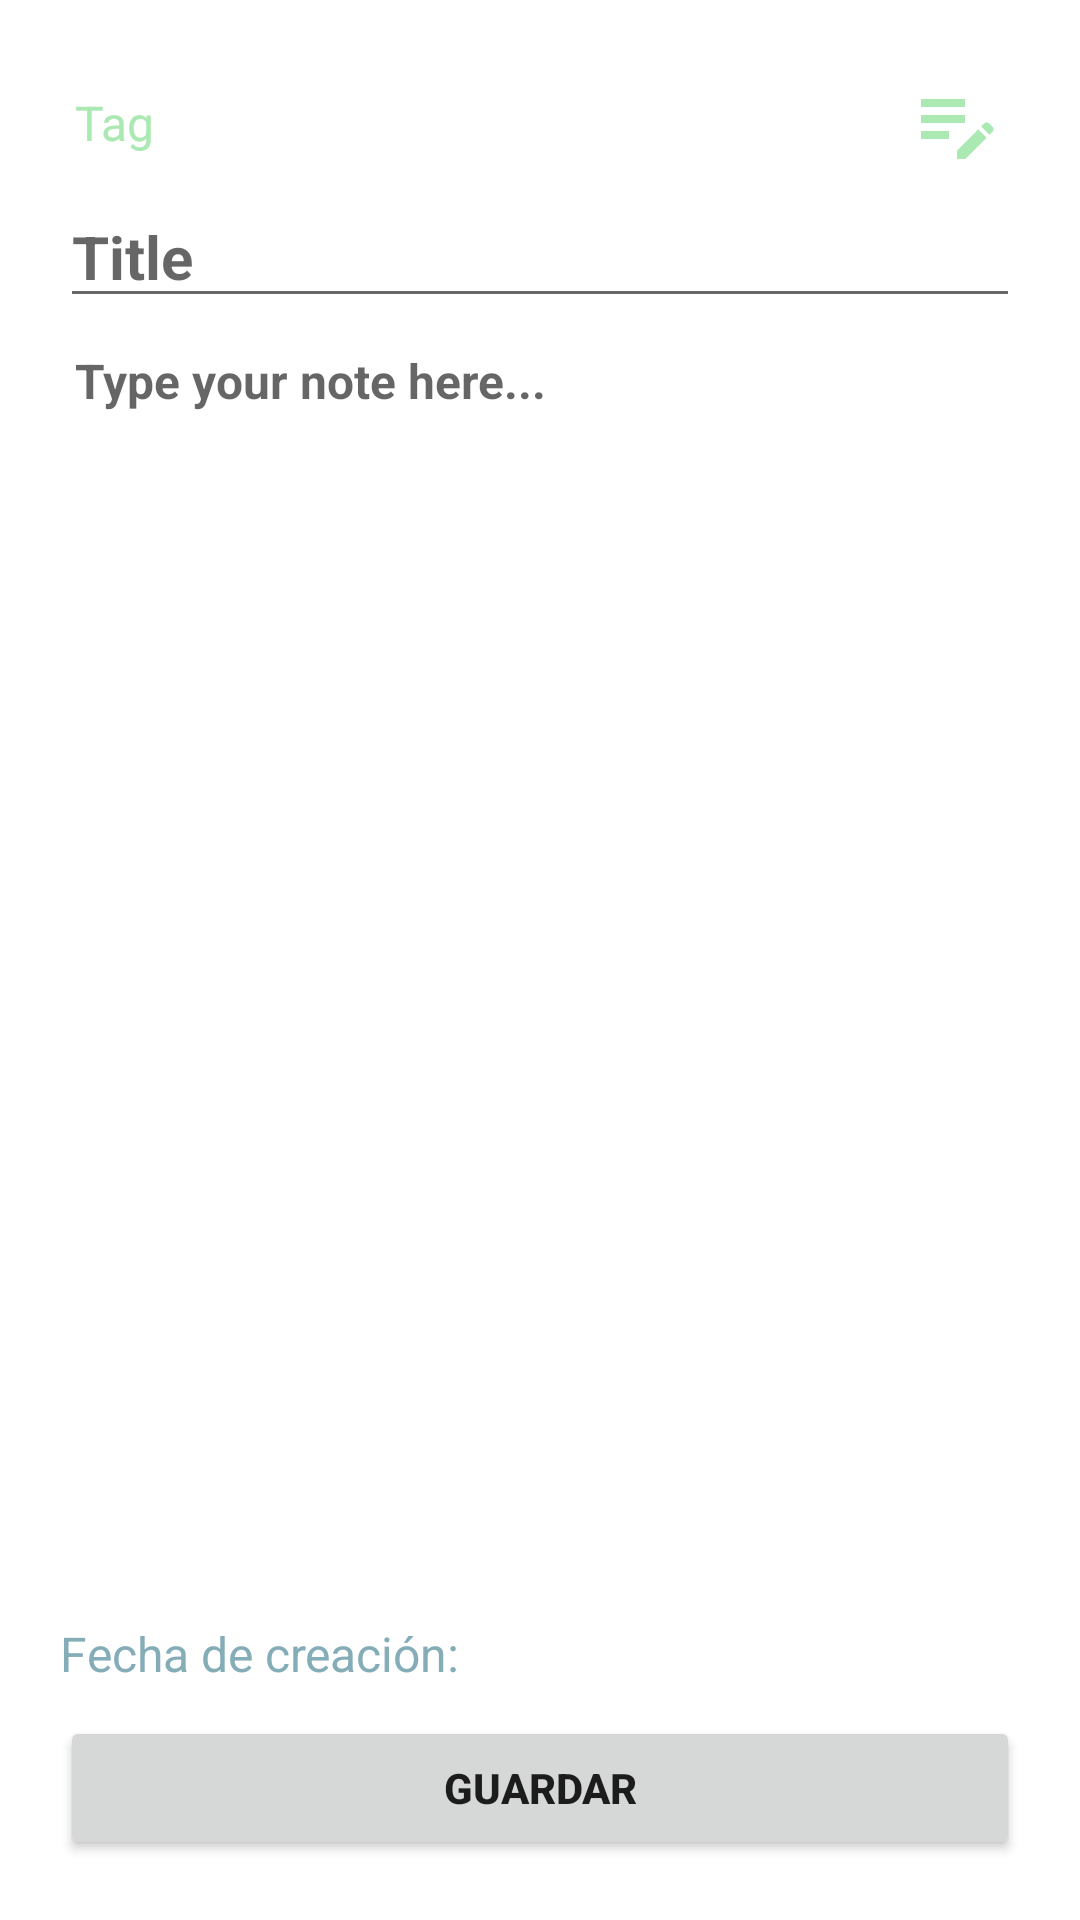

Screen size 1080*1920. Icon name, then its center in pixels as point (x, y):
Editar las propiedades de la nota: point (957, 129)
